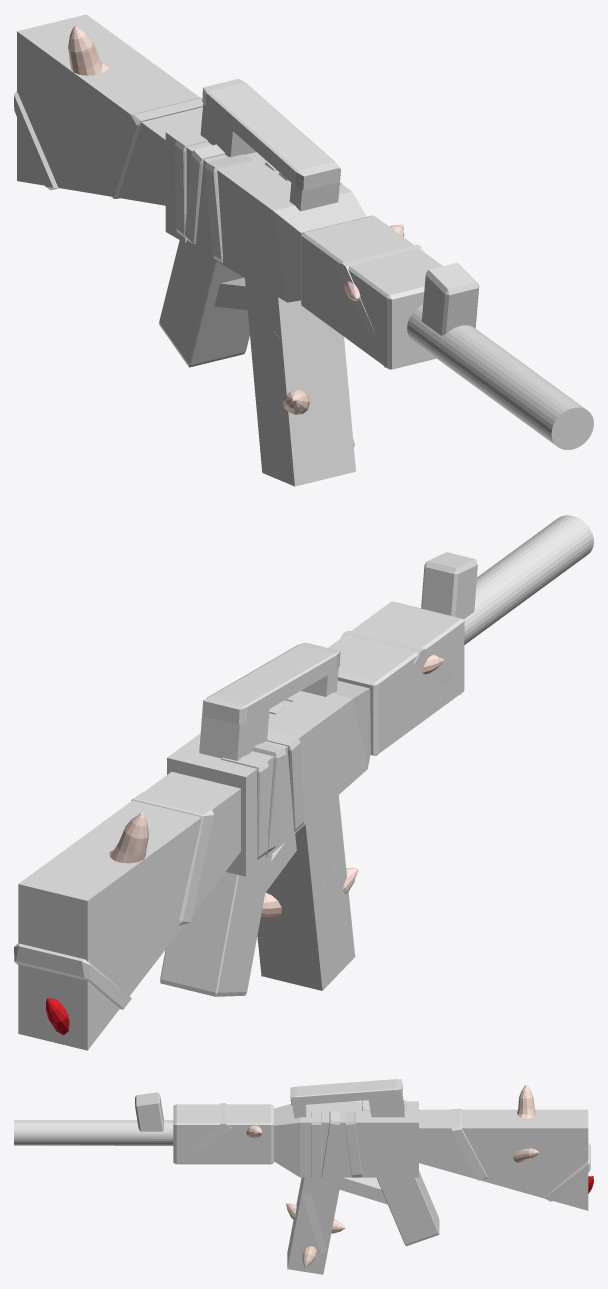
3 renders of one model, top to bottom at view 1: azimuth 30°, elevation 25°; view 2: azimuth 150°, elevation 25°; view 3: azimuth 270°, elevation 25°, orthographic. The views are drawn at different scales.
Visible parts, largest first — view 1: Grip.001, Detail.001, Main.001, Main, Detail.017, Grip, Detail.002, Detail.005, Detail.013, Detail.010, Detail.011, Detail.012 (+7 smaller); view 2: Grip.001, Main.001, Main, Detail.001, Grip, Detail.017, Detail.002, Detail.005, Detail.003, Detail.014, Detail.013, Detail.010 (+6 smaller); view 3: Grip.001, Main.001, Main, Detail.017, Detail.001, Grip, Detail.002, Detail.005, Detail.003, Detail.006, Detail.013, Detail.008 (+7 smaller).
Part boxes in pixels (x1,y1,x2,y2): Grip.001: [17, 14, 202, 205]; Detail.001: [245, 278, 355, 486]; Main.001: [165, 123, 366, 302]; Main: [301, 215, 442, 369]; Detail.017: [407, 304, 593, 449]; Grip: [159, 240, 249, 367]; Detail.002: [202, 79, 339, 190]; Detail.005: [421, 262, 479, 335]; Detail.013: [105, 97, 203, 198]; Detail.010: [204, 154, 252, 263]; Detail.011: [185, 144, 225, 244]; Detail.012: [174, 134, 207, 242]; Grip.001: [18, 772, 240, 1050]; Main.001: [167, 680, 370, 876]; Main: [328, 601, 464, 755]; Detail.001: [257, 795, 355, 990]; Grip: [160, 853, 272, 996]; Detail.017: [464, 515, 593, 644]; Detail.002: [203, 642, 340, 724]; Detail.005: [421, 552, 477, 618]; Detail.003: [199, 699, 269, 760]; Detail.014: [14, 943, 131, 1009]; Detail.013: [131, 792, 213, 925]; Detail.010: [266, 730, 304, 832]; Grip.001: [419, 1109, 588, 1210]; Main.001: [274, 1101, 418, 1177]; Main: [173, 1104, 273, 1164]; Detail.017: [14, 1120, 173, 1145]; Detail.001: [287, 1177, 341, 1274]; Grip: [377, 1171, 439, 1246]; Detail.002: [290, 1079, 402, 1105]; Detail.005: [135, 1092, 164, 1131]; Detail.003: [367, 1089, 404, 1117]; Detail.006: [339, 1177, 387, 1204]; Detail.013: [451, 1108, 487, 1180]; Detail.008: [321, 1110, 340, 1178].
Size of the model in its own units: 2.67 by 8.51 by 24.53.
31 materials, 9 textured.
